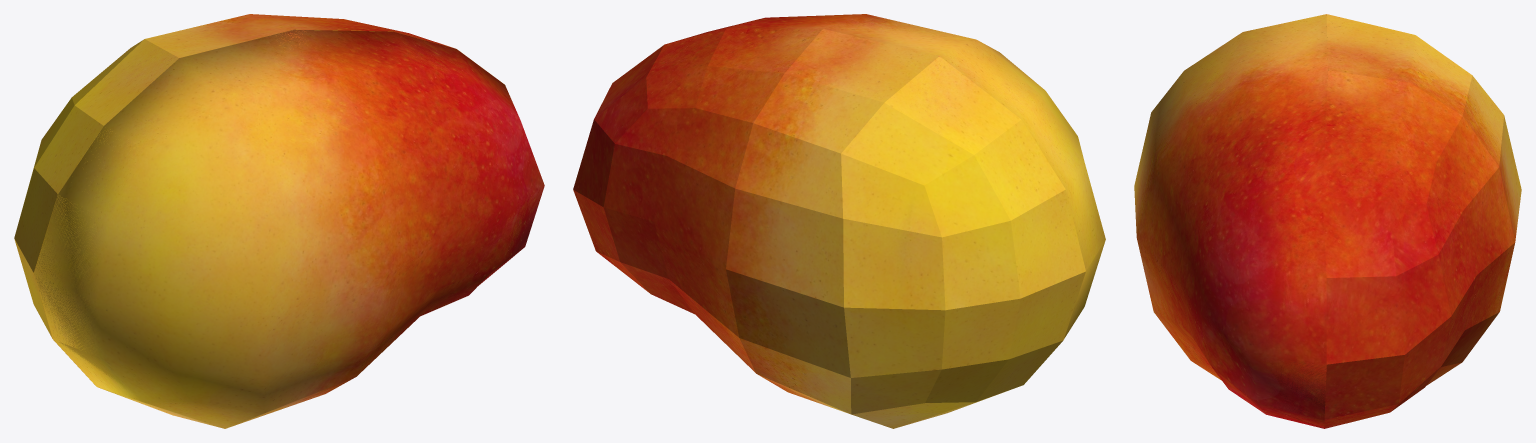
Rendered from mango.fbx.
3 views of the same model, side by side, from view 1: azimuth 30°, elevation 25°; view 2: azimuth 150°, elevation 25°; view 3: azimuth 270°, elevation 25° (orthographic).
Parts seen in each view (by area): view 1: mango_part1, mango, mango_part2; view 2: mango_part2, mango_part1, mango; view 3: mango_part2, mango_part1, mango.
Boxes of the visible parts, x1,y1,x2,y2 form: mango_part1: (34,29,544,408); mango: (36,30,544,428); mango_part2: (14,14,501,403); mango_part2: (573,28,1085,428); mango_part1: (674,14,1105,270); mango: (827,29,1105,338); mango_part2: (1323,14,1521,428); mango_part1: (1134,14,1327,428); mango: (1137,73,1327,428).
Size of the model in its own units: 25.4 by 17.39 by 17.28.
